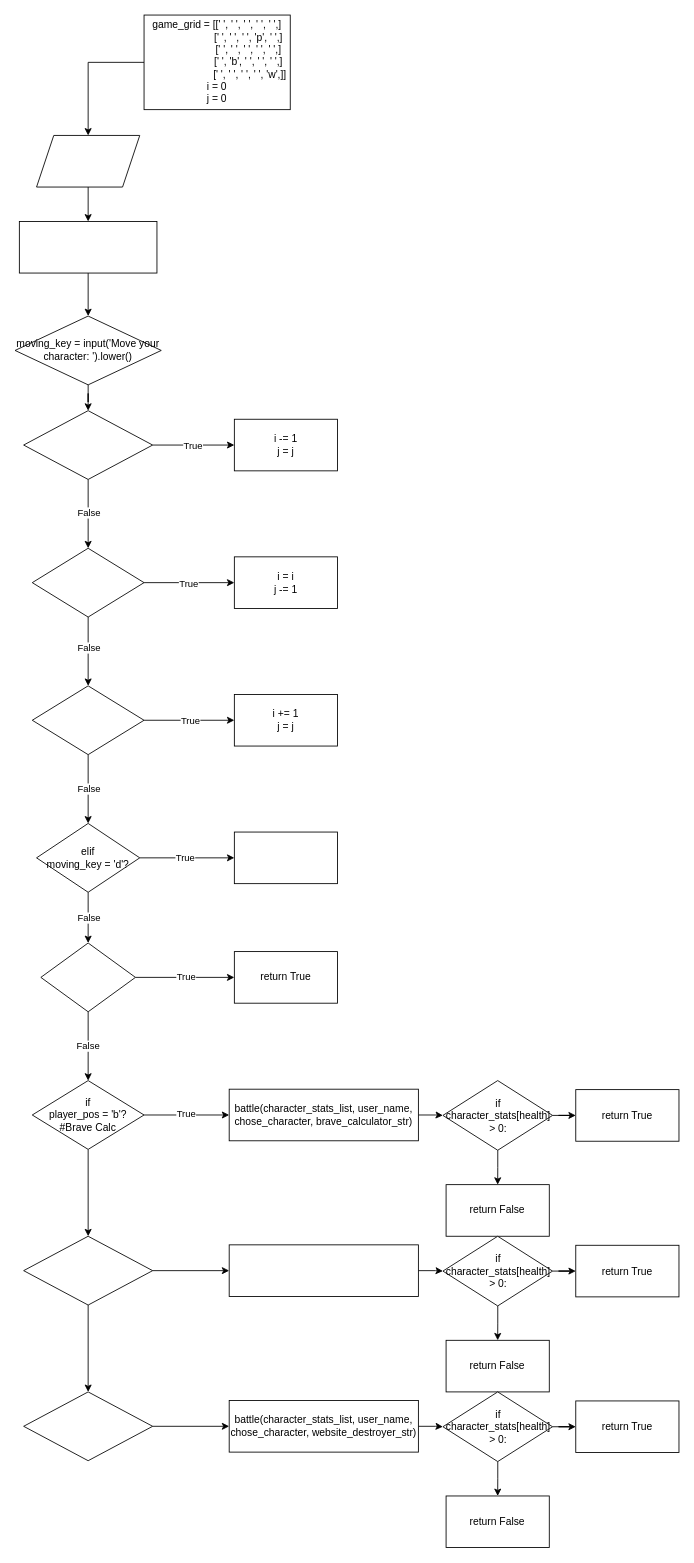
Image size: 694x1563. Some labels were removed from this diagram. Here are the shapes that lost their labels. From the top down, the box of each, then its label:
(36, 135, 140, 187): def navigate(character_stats, game_grid, i, j)
(18, 221, 157, 273): player_pos = game_grid[i][j]
(23, 410, 153, 479): if moving_key = 'w'?
(31, 547, 144, 617): elif moving_key = 'a'?
(31, 685, 144, 755): elif moving_key = 's'?
(233, 831, 338, 884): i = i j += 1
(40, 942, 135, 1012): if player_pos = ' '?
(23, 1235, 153, 1305): if player_pos = 'p'? #Python Scare
(228, 1244, 418, 1296): battle(character_stats_list, user_name, chose_character, python_scarecrow_str)
(23, 1391, 153, 1461): if player_pos = 'w'? #Website Dest
